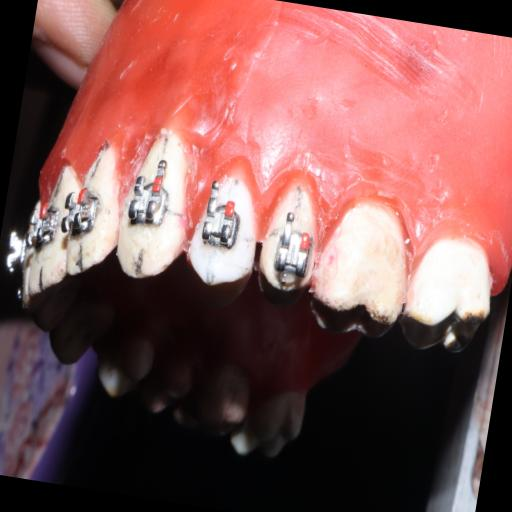correct_brace: (178, 148, 274, 302)
incorrect_brace: (197, 176, 248, 252)
